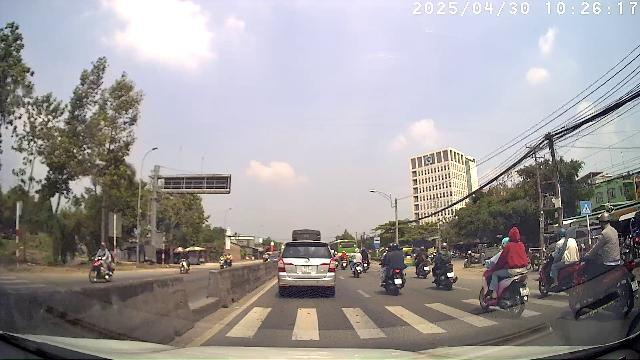423a-duong-nguoi-di-bo-sang-ngang-1: (581, 201, 592, 215)
